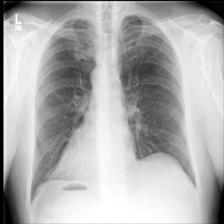normal: (28, 10, 202, 202)
